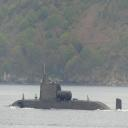submarine: (8, 83, 124, 111)
